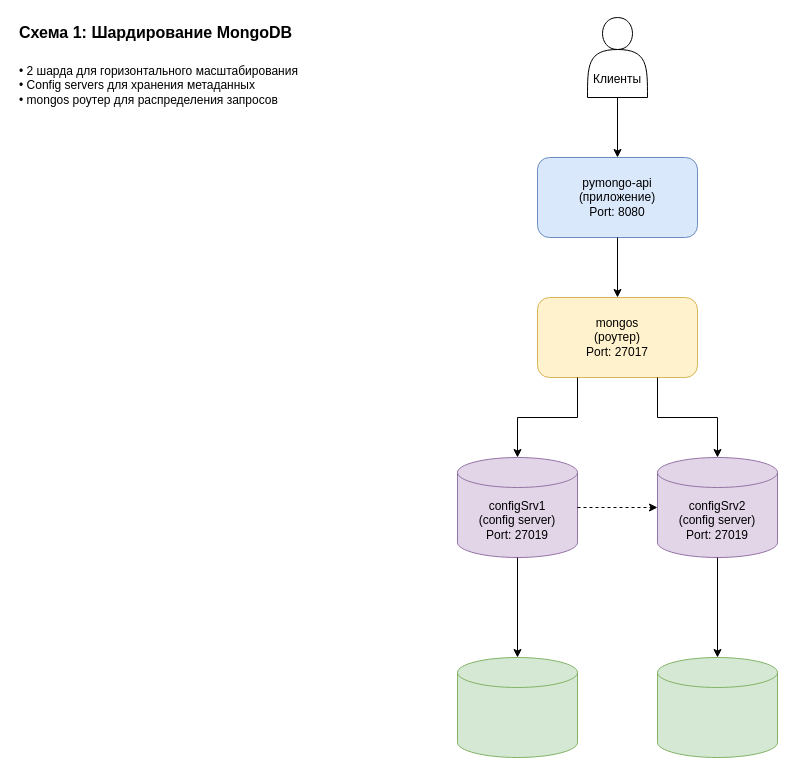
The diagram is 795 pixels wide and 775 high, and some of its shapes have lost their labels. The shapes that lost their labels are listed below. From the top down, each one's box as (x1, y1, x2, y2) in pixels, then its label:
(456, 656, 578, 758): shard1-1 (Shard 1) Port: 27018
(656, 656, 778, 758): shard2-1 (Shard 2) Port: 27018
